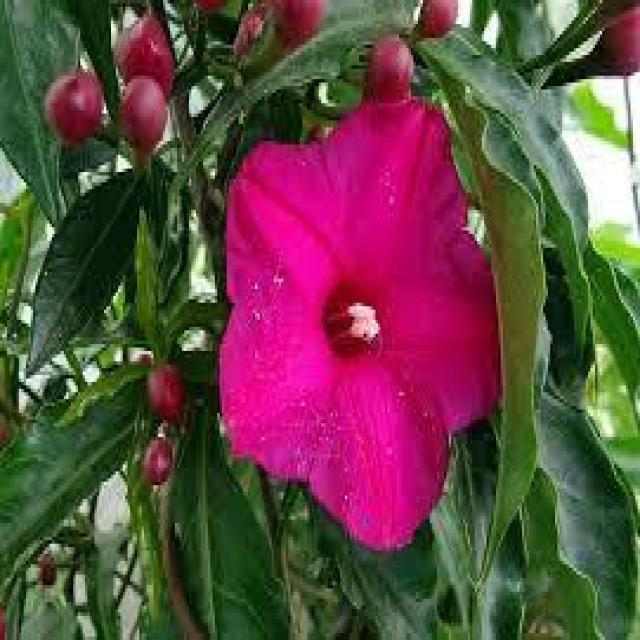organic waste: (206, 98, 526, 542)
